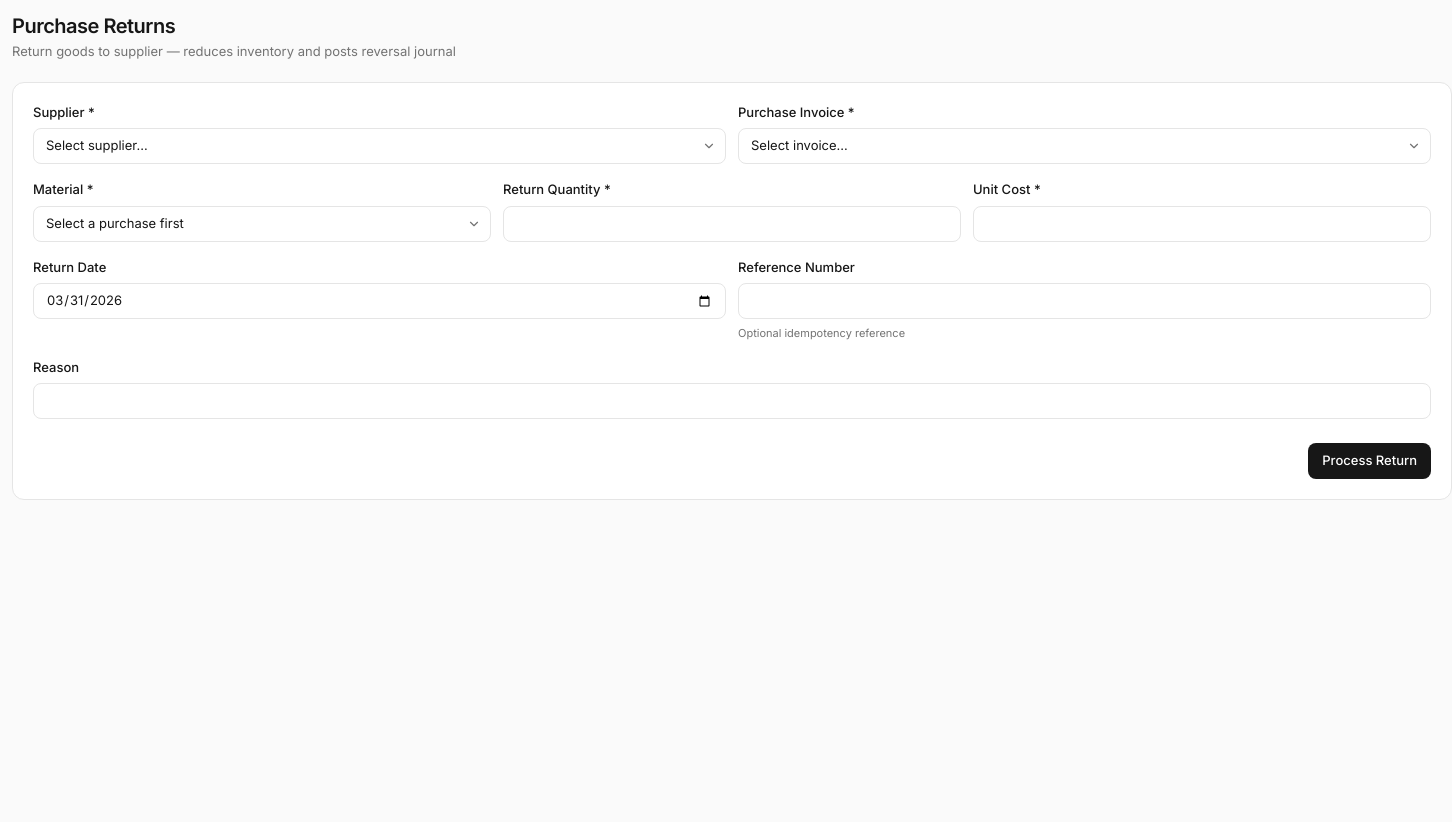
Scenario: PurchaseReturnsPage › shows max-quantity hint when a material is selected
The width and height of the screenshot is (1452, 822).
Check: the text "Supplier *" is shown, box top-left (33, 104), bottom-right (95, 120)
Note: Select supplier
Step 1. Select "Acme Materials" in the dropdown labelled "Supplier *" → (380,146), box top-left (33, 128), bottom-right (726, 164)
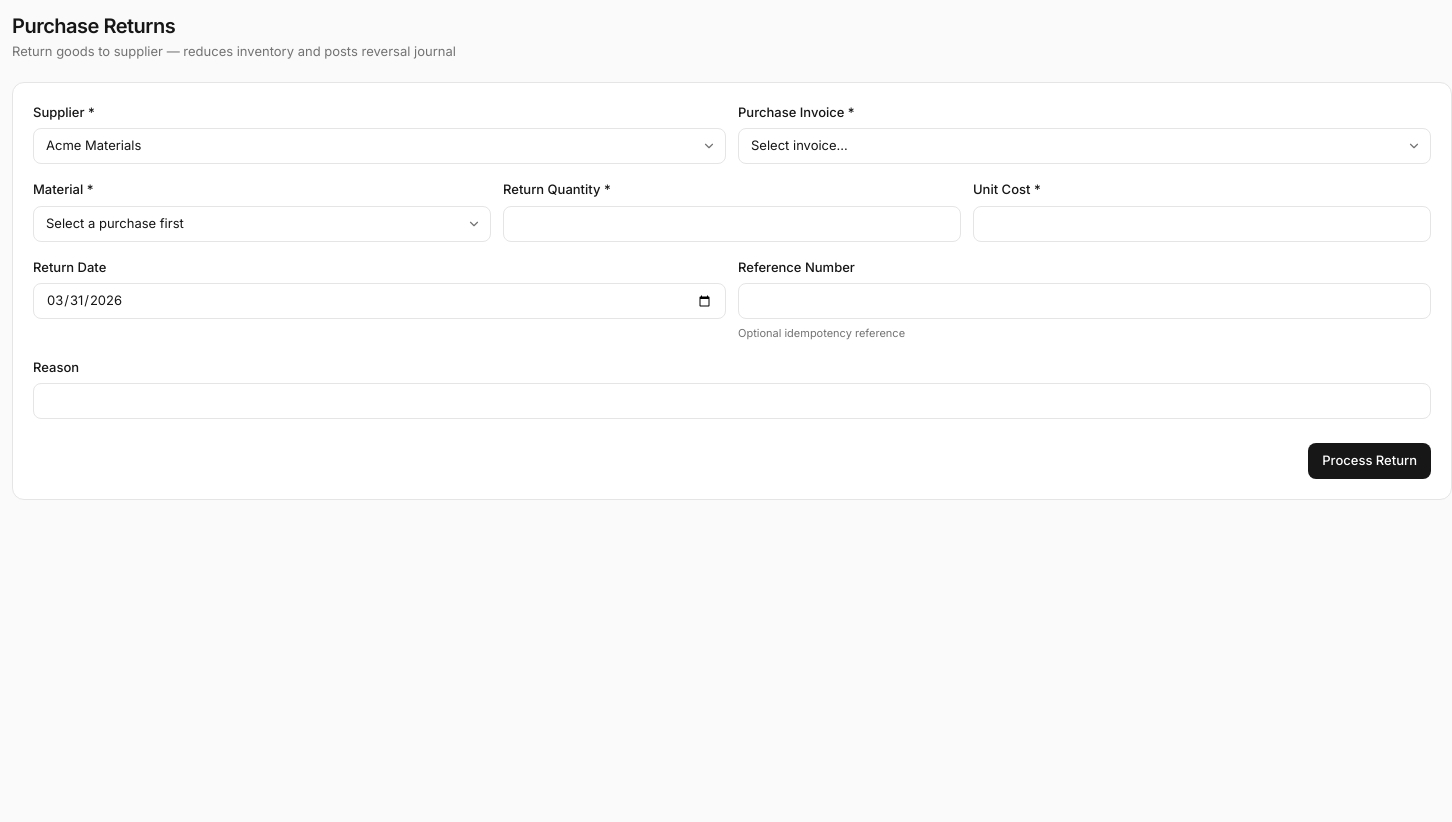
Note: Select purchase invoice
Step 2. Select "INV-RM-001 — Acme Materials (01 Mar 2026)" in the dropdown labelled "Purchase Invoice *" → (1084,146), box top-left (738, 128), bottom-right (1431, 164)
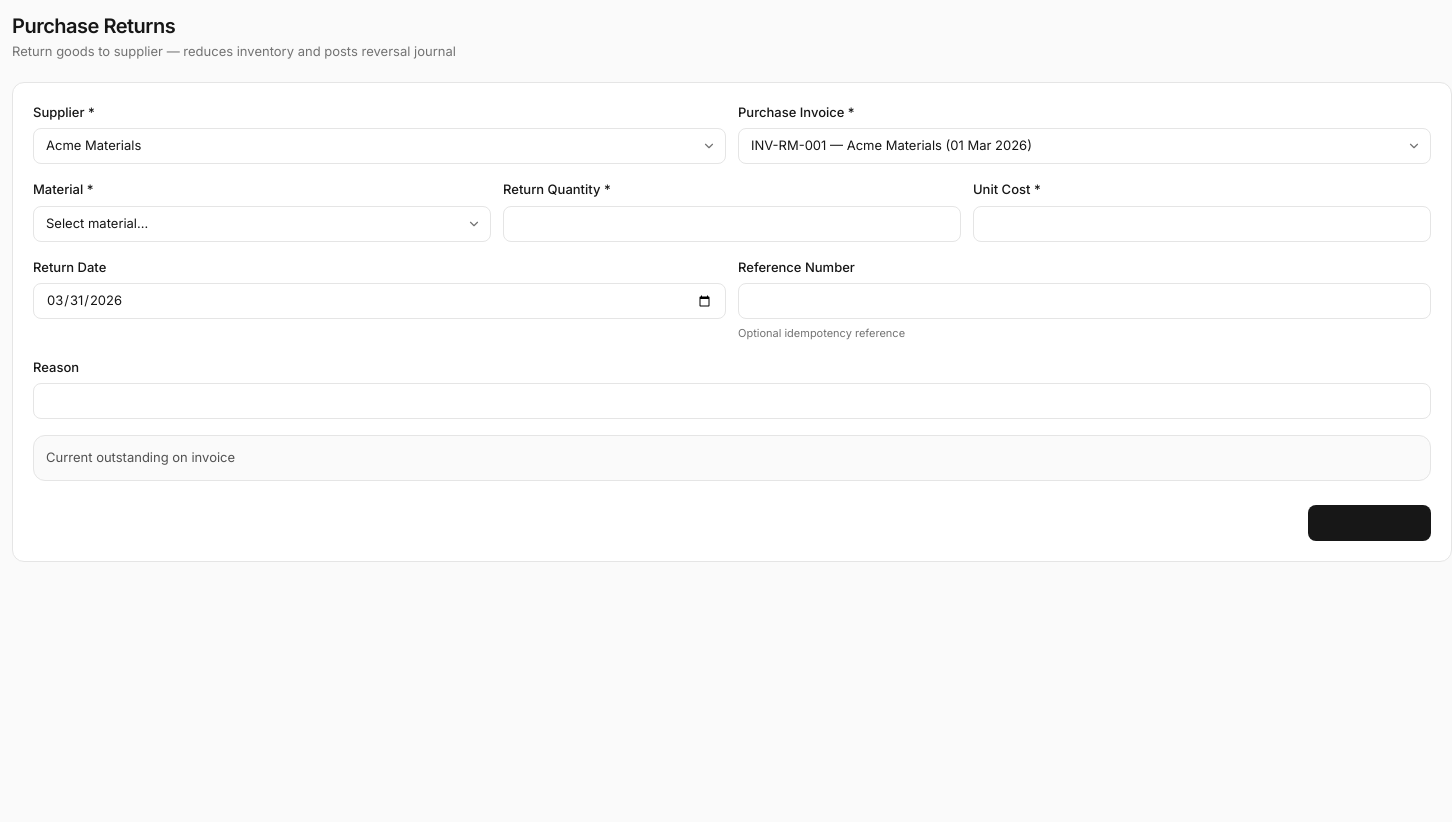
Note: Select material — triggers unit cost auto-fill and max hint
Step 3. Select "Titanium Dioxide" in the dropdown labelled "Material *" → (262,224), box top-left (33, 206), bottom-right (491, 242)
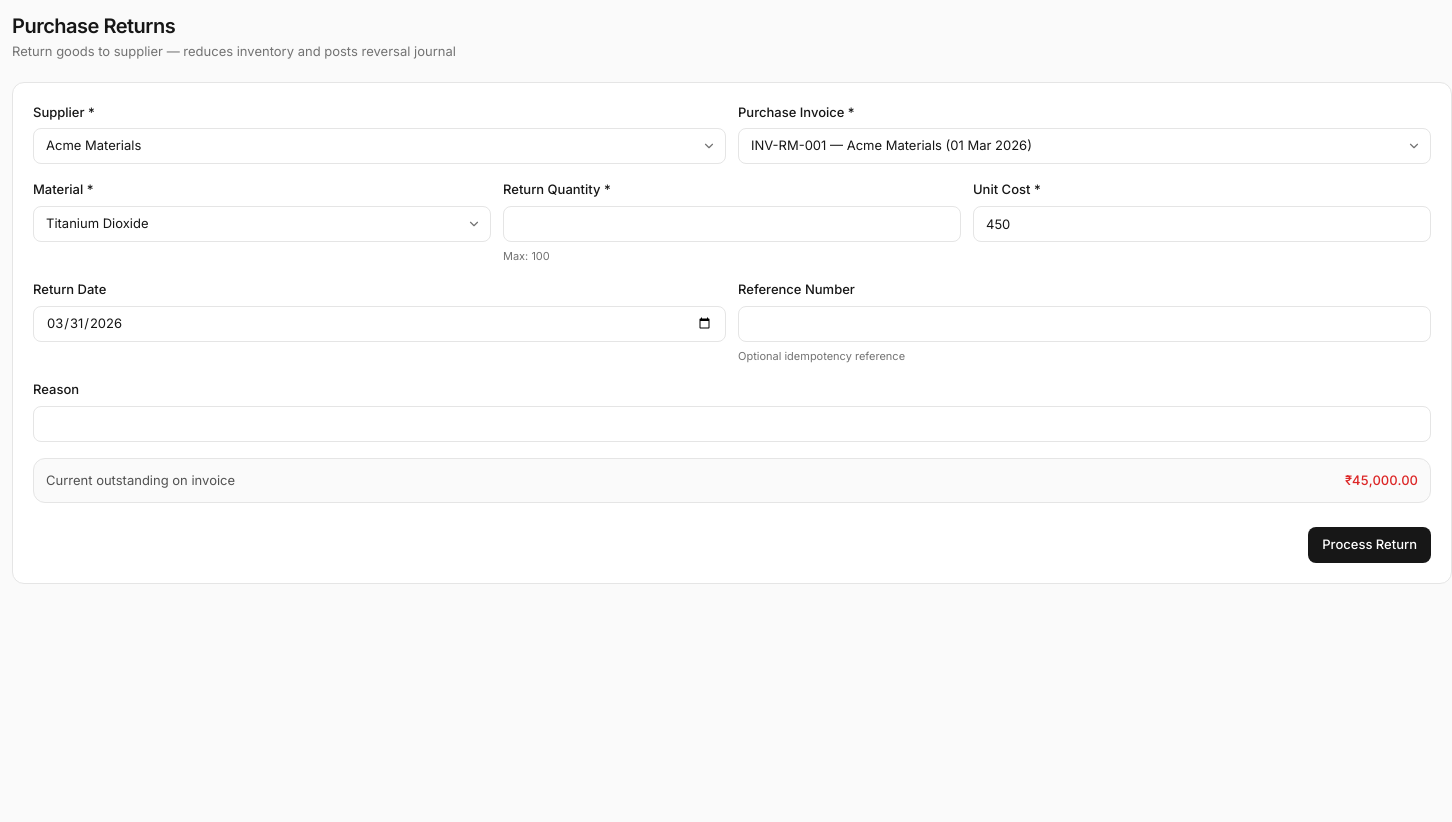
Check: the text "Max: 100" is shown, box top-left (503, 248), bottom-right (550, 262)
